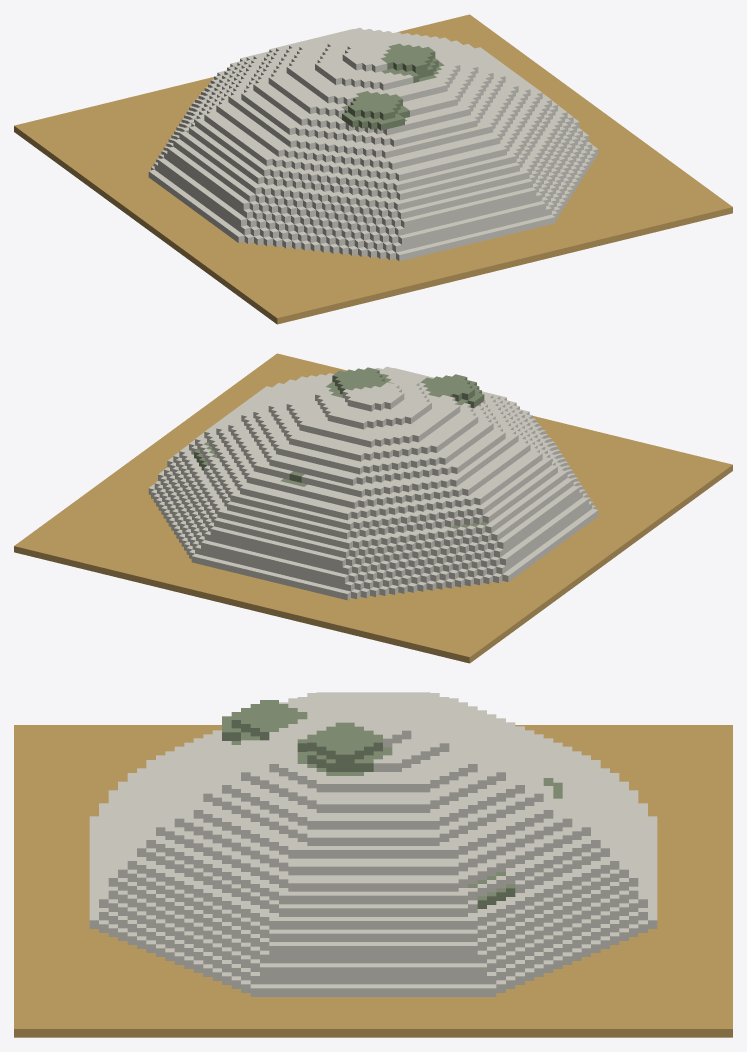
The model's file is sake_koji_rice.glb.
3 views of the same model, one above another, from view 1: azimuth 30°, elevation 25°; view 2: azimuth 150°, elevation 25°; view 3: azimuth 270°, elevation 25° (orthographic). The views are drawn at different scales.
Visible parts, largest first — view 1: sake_koji_rice:compound; view 2: sake_koji_rice:compound; view 3: sake_koji_rice:compound.
Part boxes in pixels (x1=…): sake_koji_rice:compound: x1=14, y1=14, x2=732, y2=324; sake_koji_rice:compound: x1=14, y1=353, x2=732, y2=663; sake_koji_rice:compound: x1=14, y1=692, x2=732, y2=1037.
Bounding box in the file's own units: 0.152 × 0.038 × 0.152.
